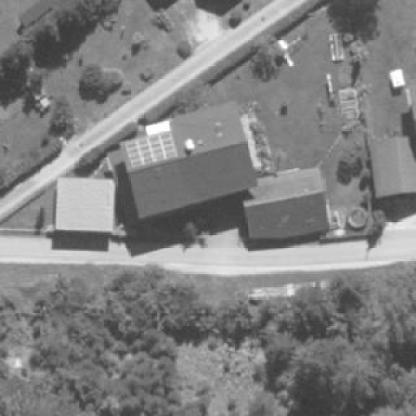solar-pv-panel: (125, 130, 177, 166)
